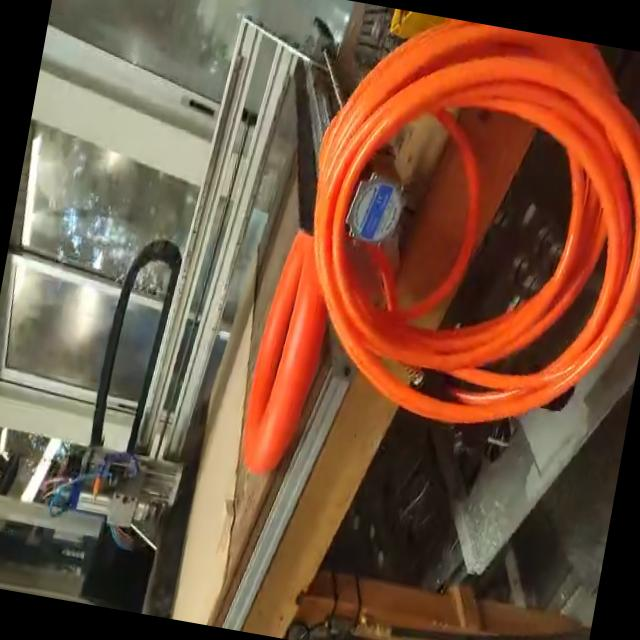note: (232, 225, 346, 484)
